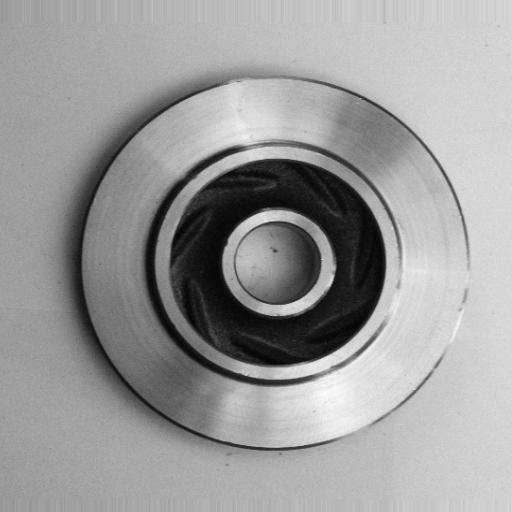scratch: (429, 270, 486, 380), (372, 265, 416, 342)
unpolished_casting: (75, 69, 475, 457)
